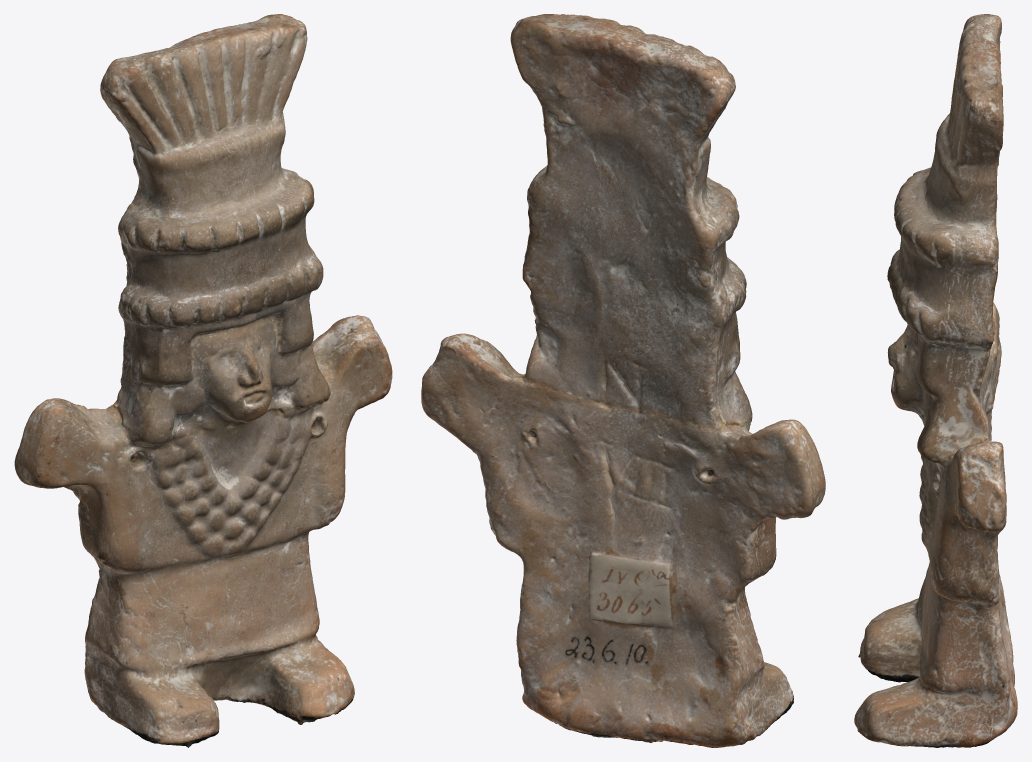
Rendered from chalchiutlicue-transformed.glb.
3 renders of one model, left to right at view 1: azimuth 30°, elevation 25°; view 2: azimuth 150°, elevation 25°; view 3: azimuth 270°, elevation 25°, orthographic. The views are drawn at different scales.
Visible parts, largest first — view 1: 1923.06.0010 (chalchiutlicue); view 2: 1923.06.0010 (chalchiutlicue); view 3: 1923.06.0010 (chalchiutlicue).
Boxes of the visible parts, box(x1,y1,x2,y2) form: 1923.06.0010 (chalchiutlicue): box(14, 14, 392, 747); 1923.06.0010 (chalchiutlicue): box(421, 14, 825, 747); 1923.06.0010 (chalchiutlicue): box(854, 14, 1017, 747).
Size of the model in its own units: 0.0868 by 0.1492 by 0.0334.
Materials: 1 (1 with a texture image).
